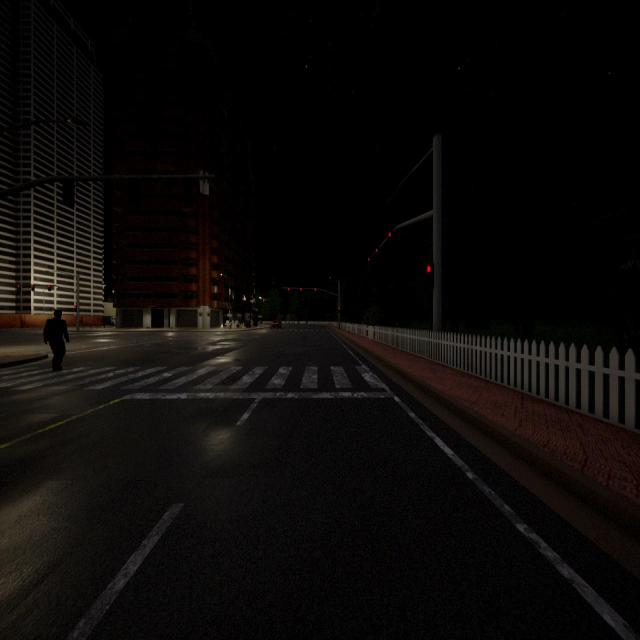Pedestrian: (43, 308, 69, 374)
Vehicle: (270, 318, 282, 331), (103, 315, 116, 327)
traffic_light: (62, 177, 77, 206), (426, 264, 434, 286), (17, 284, 21, 295), (31, 284, 35, 292), (388, 232, 392, 238), (74, 305, 77, 312), (48, 285, 51, 291), (375, 248, 378, 253), (338, 306, 340, 313), (288, 288, 290, 291), (314, 288, 316, 291), (368, 258, 370, 261), (300, 288, 302, 290)
